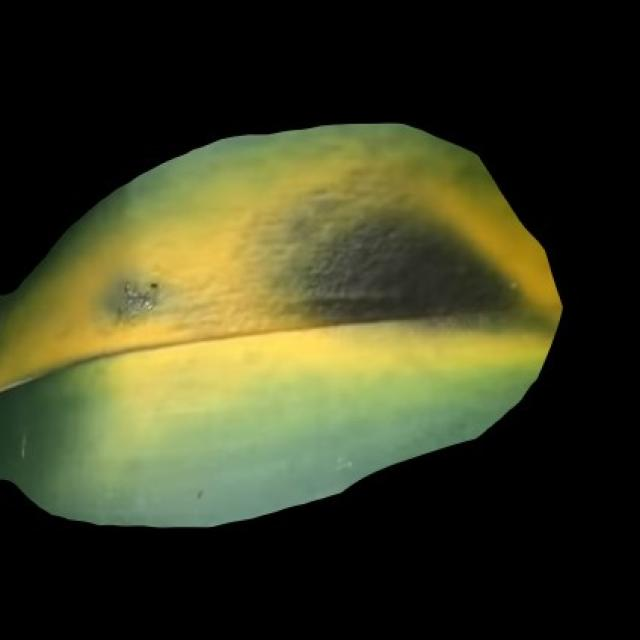mite: (110, 270, 210, 506), (115, 276, 160, 318), (15, 432, 32, 462), (187, 482, 210, 504), (143, 276, 162, 293), (119, 279, 134, 296), (193, 486, 205, 500), (507, 278, 519, 291), (148, 279, 158, 290)
spots: (0, 118, 565, 530)
